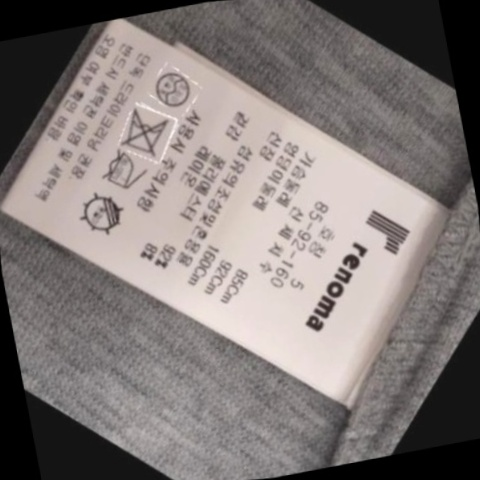DN_wash: (115, 102, 181, 162)
dry_clean_petrol_only: (148, 61, 201, 114)
iron_low: (93, 145, 153, 200)
line_dry_in_shade: (74, 186, 137, 242)
